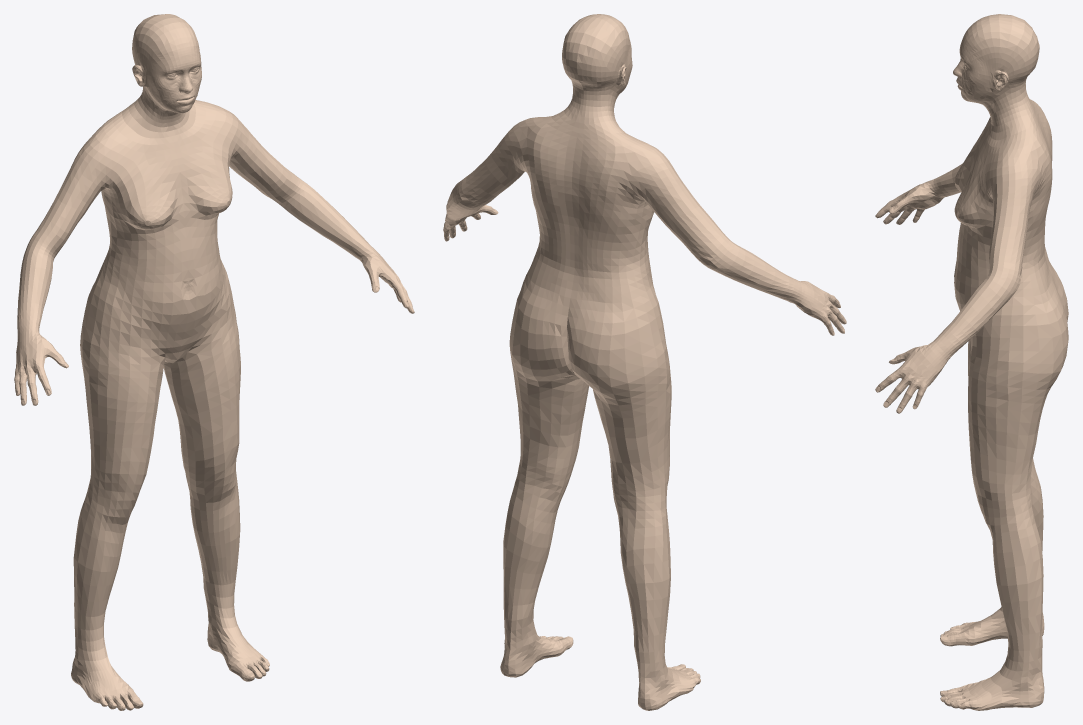
Rendered from female-mature-heavy-toned.glb.
3 renders of one model, left to right at view 1: azimuth 30°, elevation 25°; view 2: azimuth 150°, elevation 25°; view 3: azimuth 270°, elevation 25°, orthographic.
Parts seen in each view (by area): view 1: world; view 2: world; view 3: world.
Boxes of the visible parts, left/top/right/bottom form: world: left=14, top=14, right=414, bottom=710; world: left=443, top=14, right=846, bottom=710; world: left=875, top=14, right=1068, bottom=710.
Size of the model in its own units: 1.12 by 1.81 by 0.4833.
